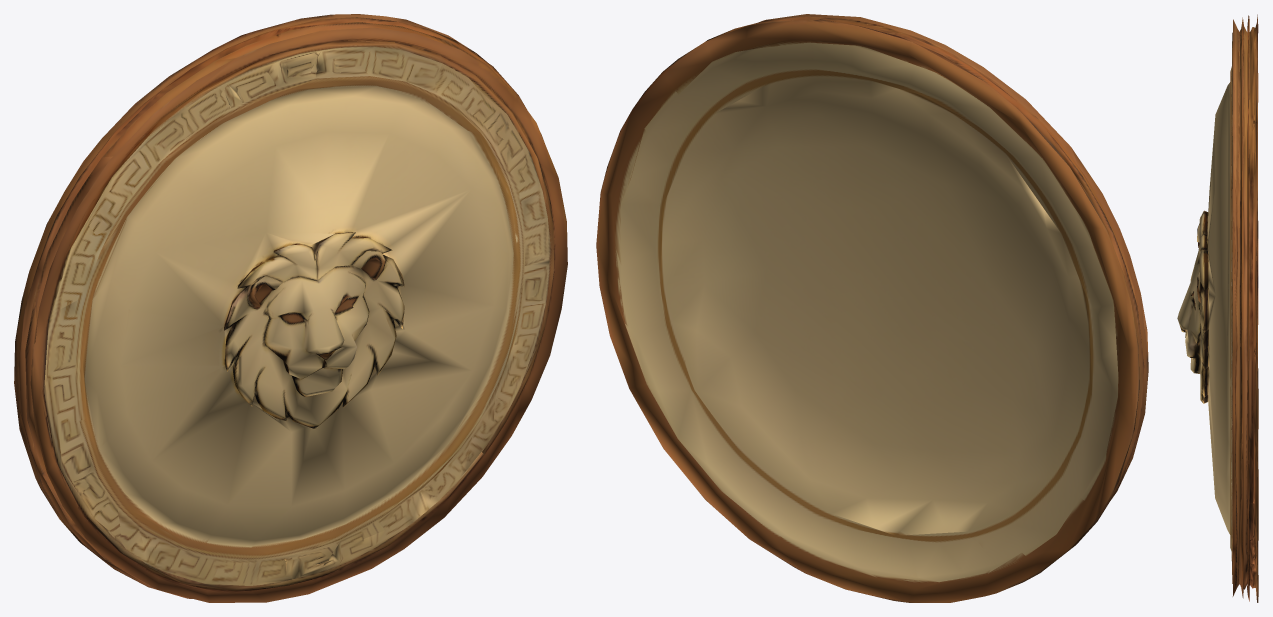
Rendered from shield.glb.
The picture shows the model from 3 angles, left to right: view 1: azimuth 30°, elevation 25°; view 2: azimuth 150°, elevation 25°; view 3: azimuth 270°, elevation 25°; orthographic projection. The views are drawn at different scales.
Visible parts, largest first — view 1: prop_shield; view 2: prop_shield; view 3: prop_shield.
Boxes of the visible parts, bbox=[...] form: prop_shield: bbox=[14, 14, 567, 602]; prop_shield: bbox=[596, 14, 1148, 602]; prop_shield: bbox=[1177, 14, 1258, 602].
Size of the model in its own units: 0.901 by 0.899 by 0.1246.
Materials: 1 (1 with a texture image).
